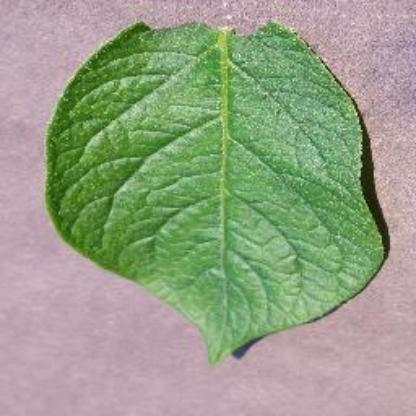Healthy-plant: (39, 17, 391, 362)
